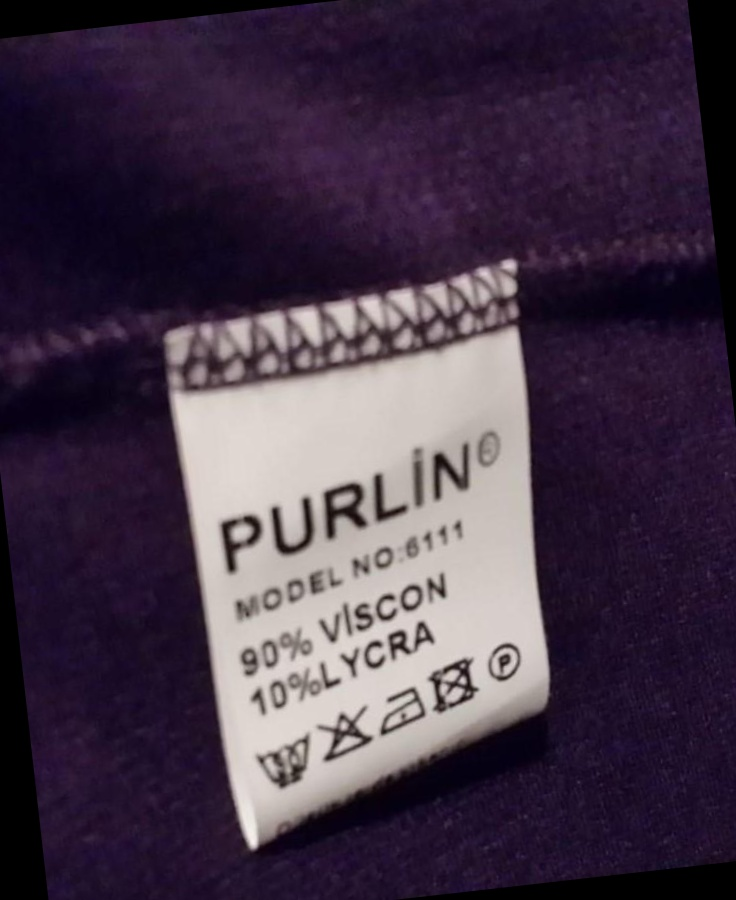30C: (252, 728, 318, 793)
DN_bleach: (319, 703, 378, 766)
DN_tumble_dry: (425, 655, 484, 720)
dry_clean_any_solvent_except_trichloroethylene: (486, 640, 530, 684)
iron_low: (374, 683, 430, 737)
